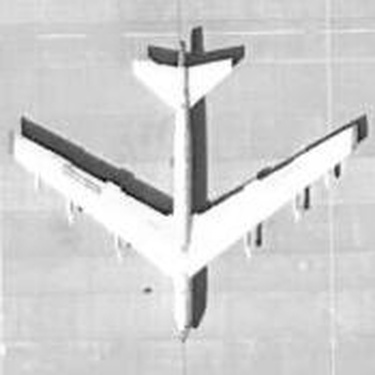airplane: (12, 16, 367, 347)
